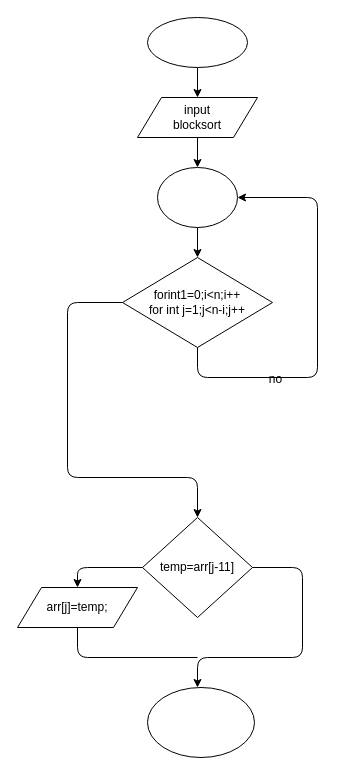
Some shapes in this 343 by 775 pixel diagram are drawn without their labels. The box of each missing label's shape, as (x1, y1, x2, y2) in pixels:
loop: (156, 166, 238, 228)
START: (146, 16, 248, 68)
